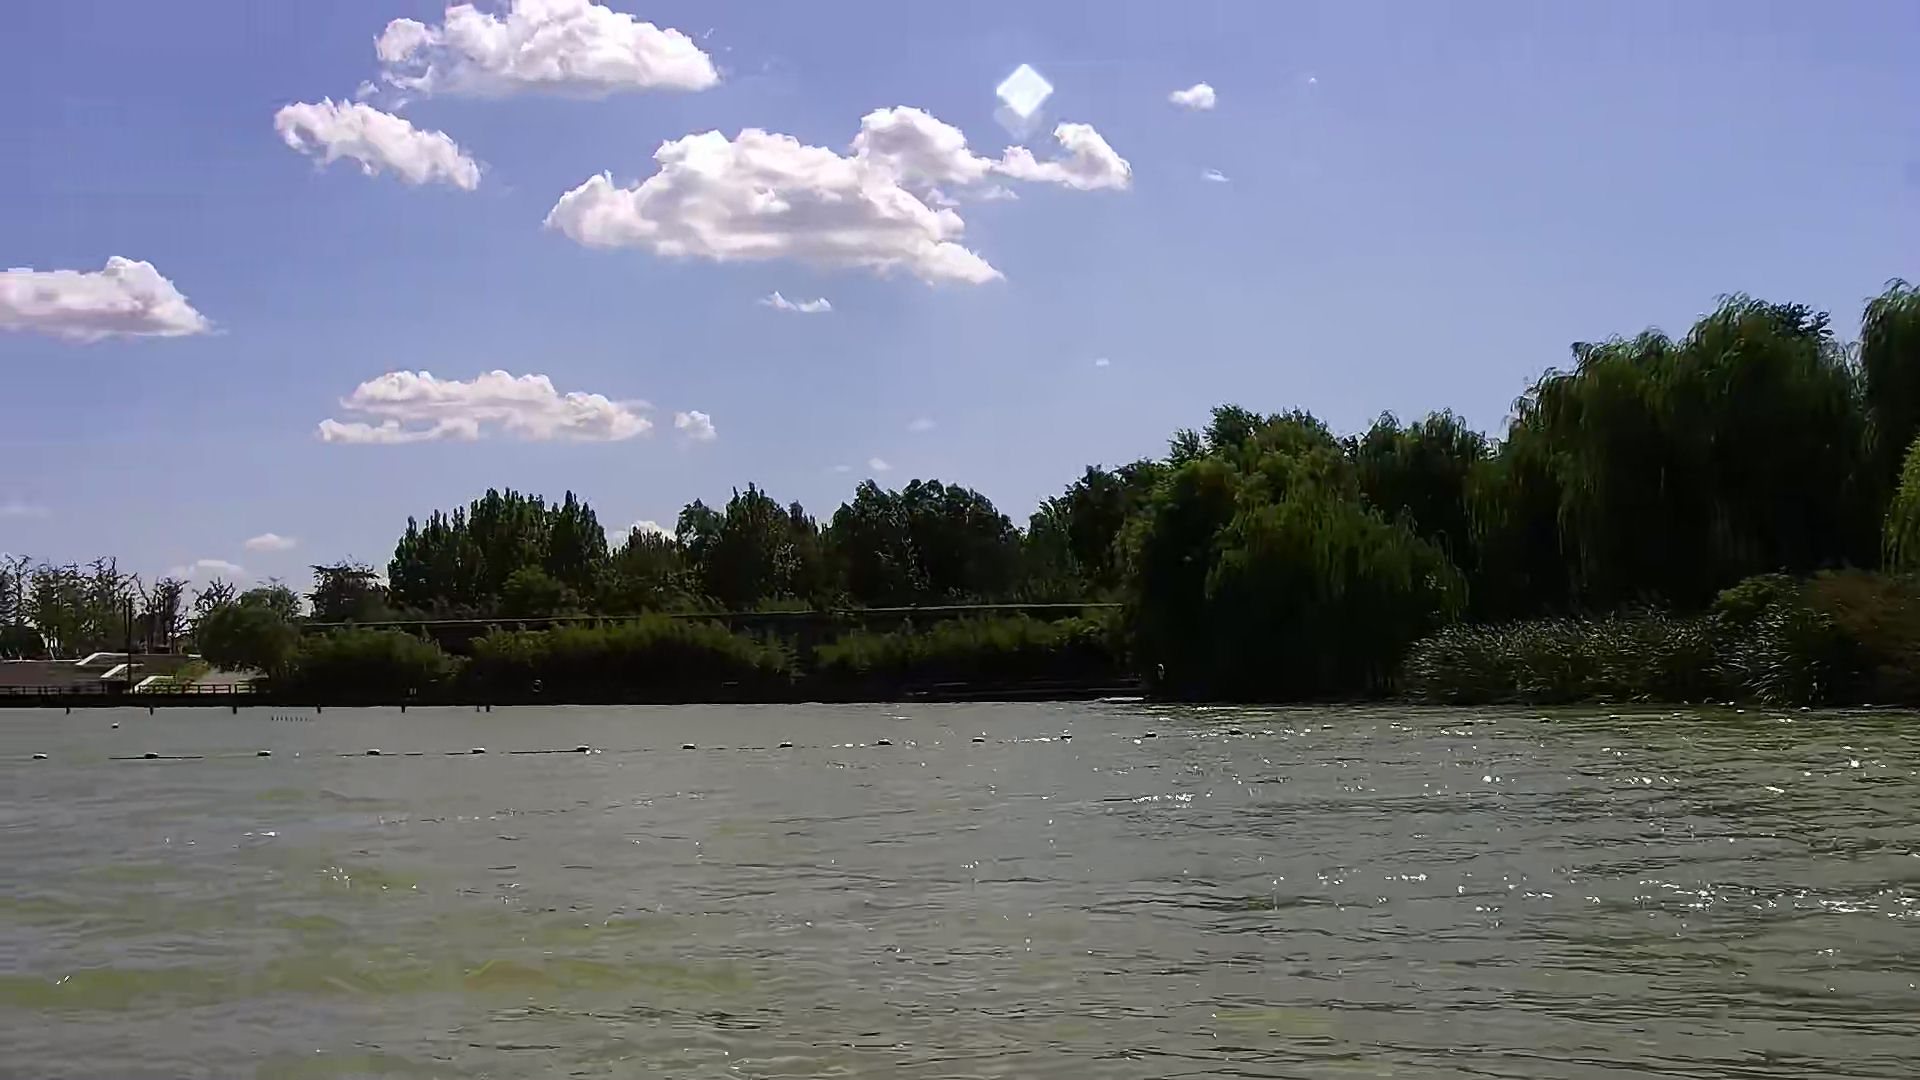ball: (460, 738, 495, 762), (248, 742, 280, 767), (133, 742, 170, 762), (361, 741, 398, 760), (675, 731, 703, 754), (570, 735, 593, 756)
harbor: (1, 650, 262, 709)
